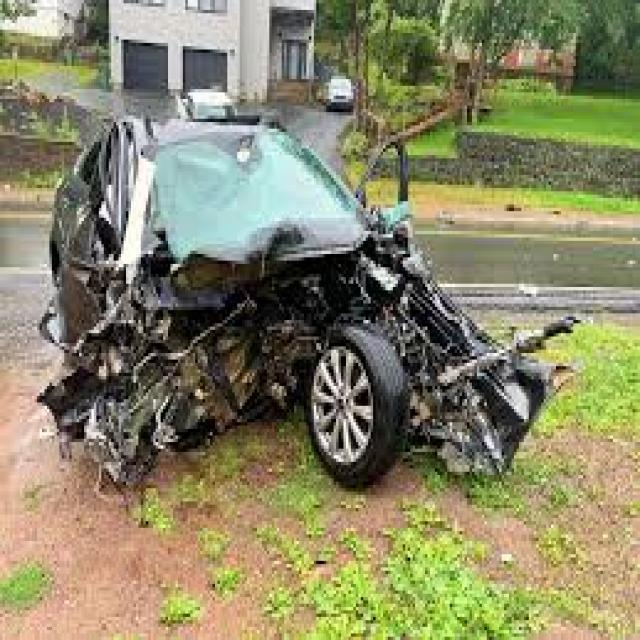accident: (45, 110, 530, 513)
